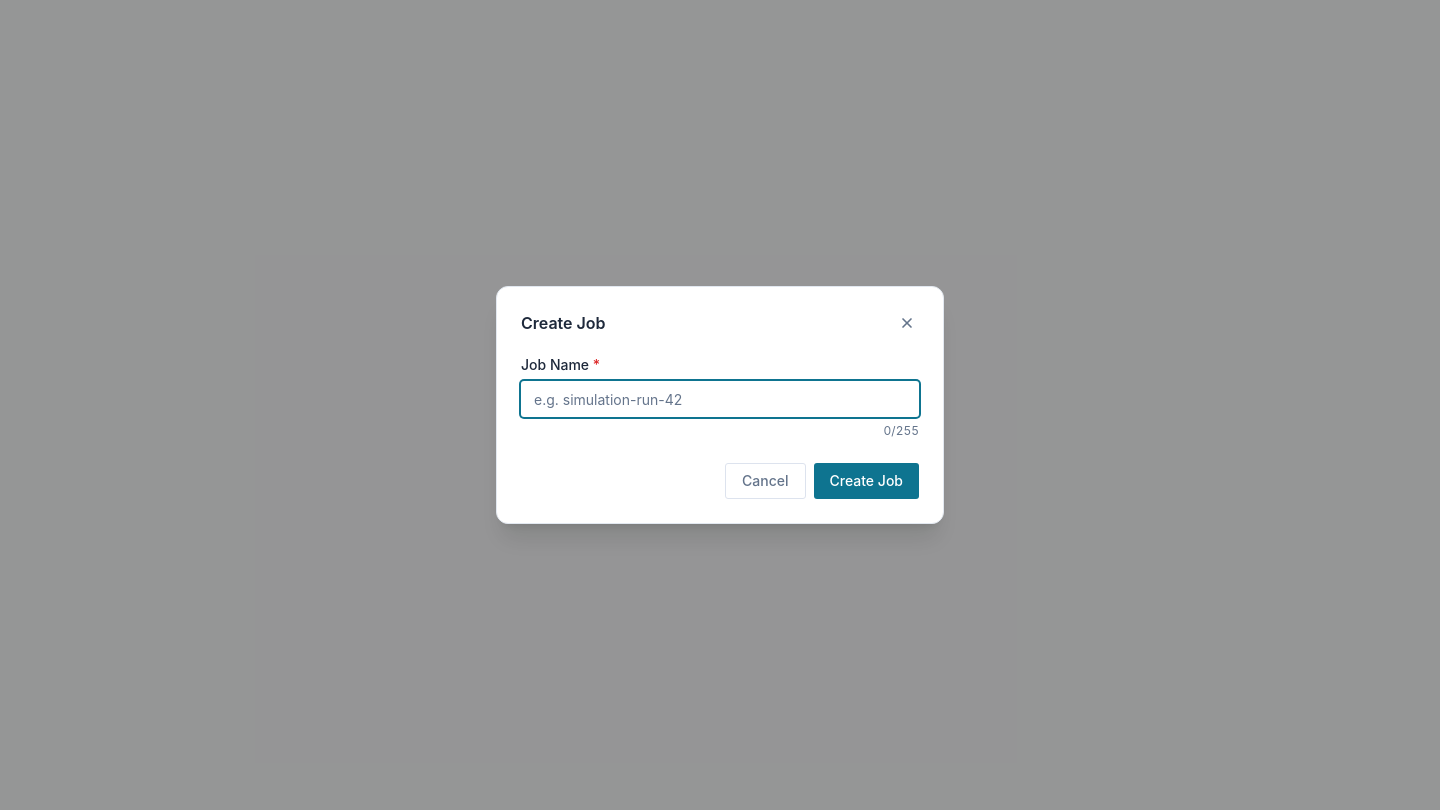
Test: CreateJobModal › validation › shows required error when submitting empty name
Click the button "Create Job" at (866, 481), box [814, 463, 919, 499]
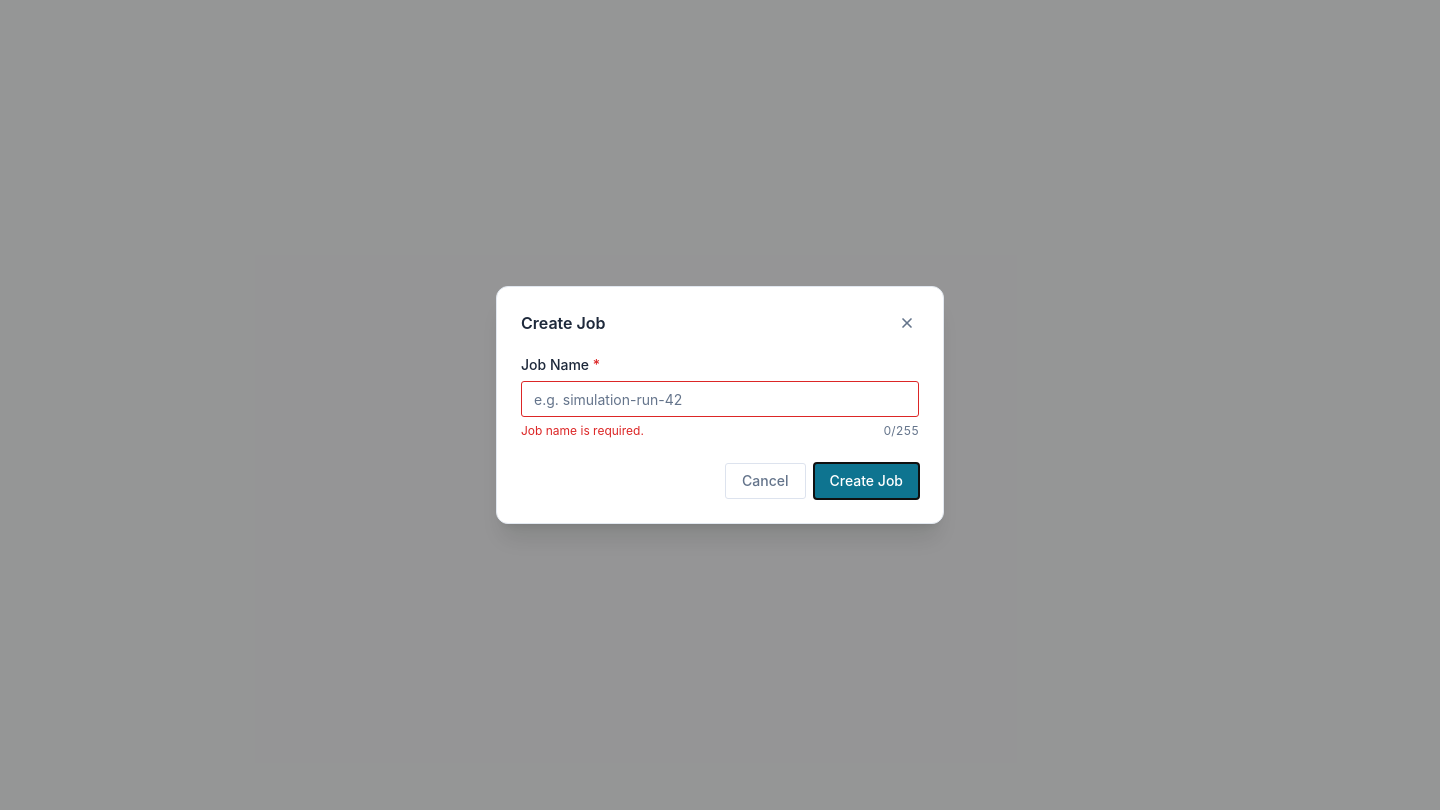
expect the text "Job name is required." is shown: met, box [521, 423, 644, 439]
